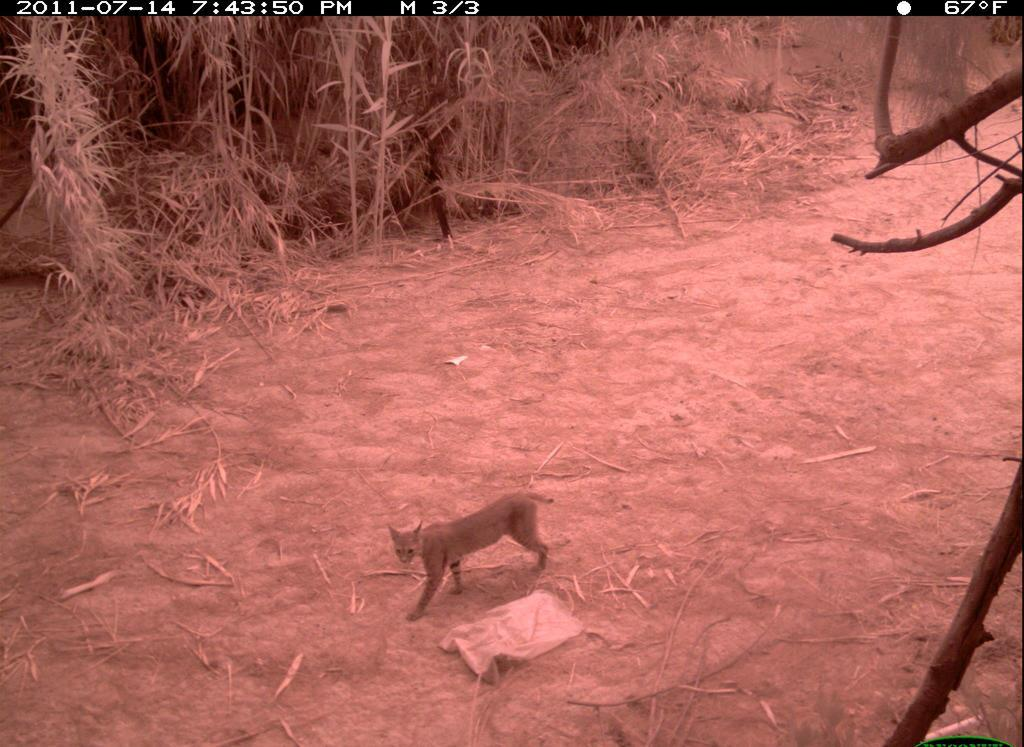bobcat: (385, 489, 559, 628)
